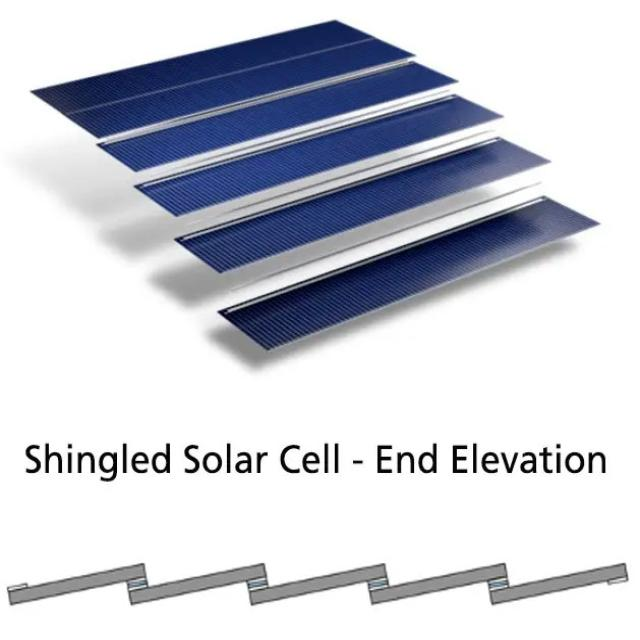clean-solar-panel: (222, 197, 596, 349), (178, 140, 549, 273), (34, 21, 412, 139), (139, 96, 500, 216), (102, 63, 452, 172)
